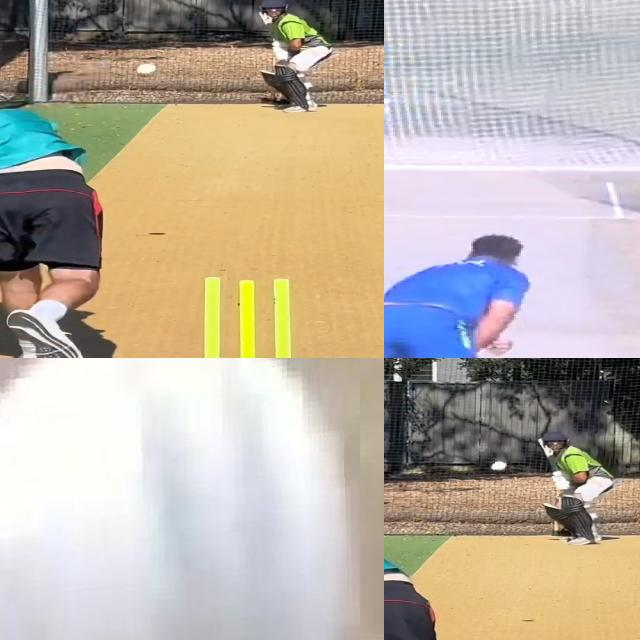Cricket ball: (0, 358, 360, 640), (134, 62, 159, 77), (489, 461, 510, 474)
